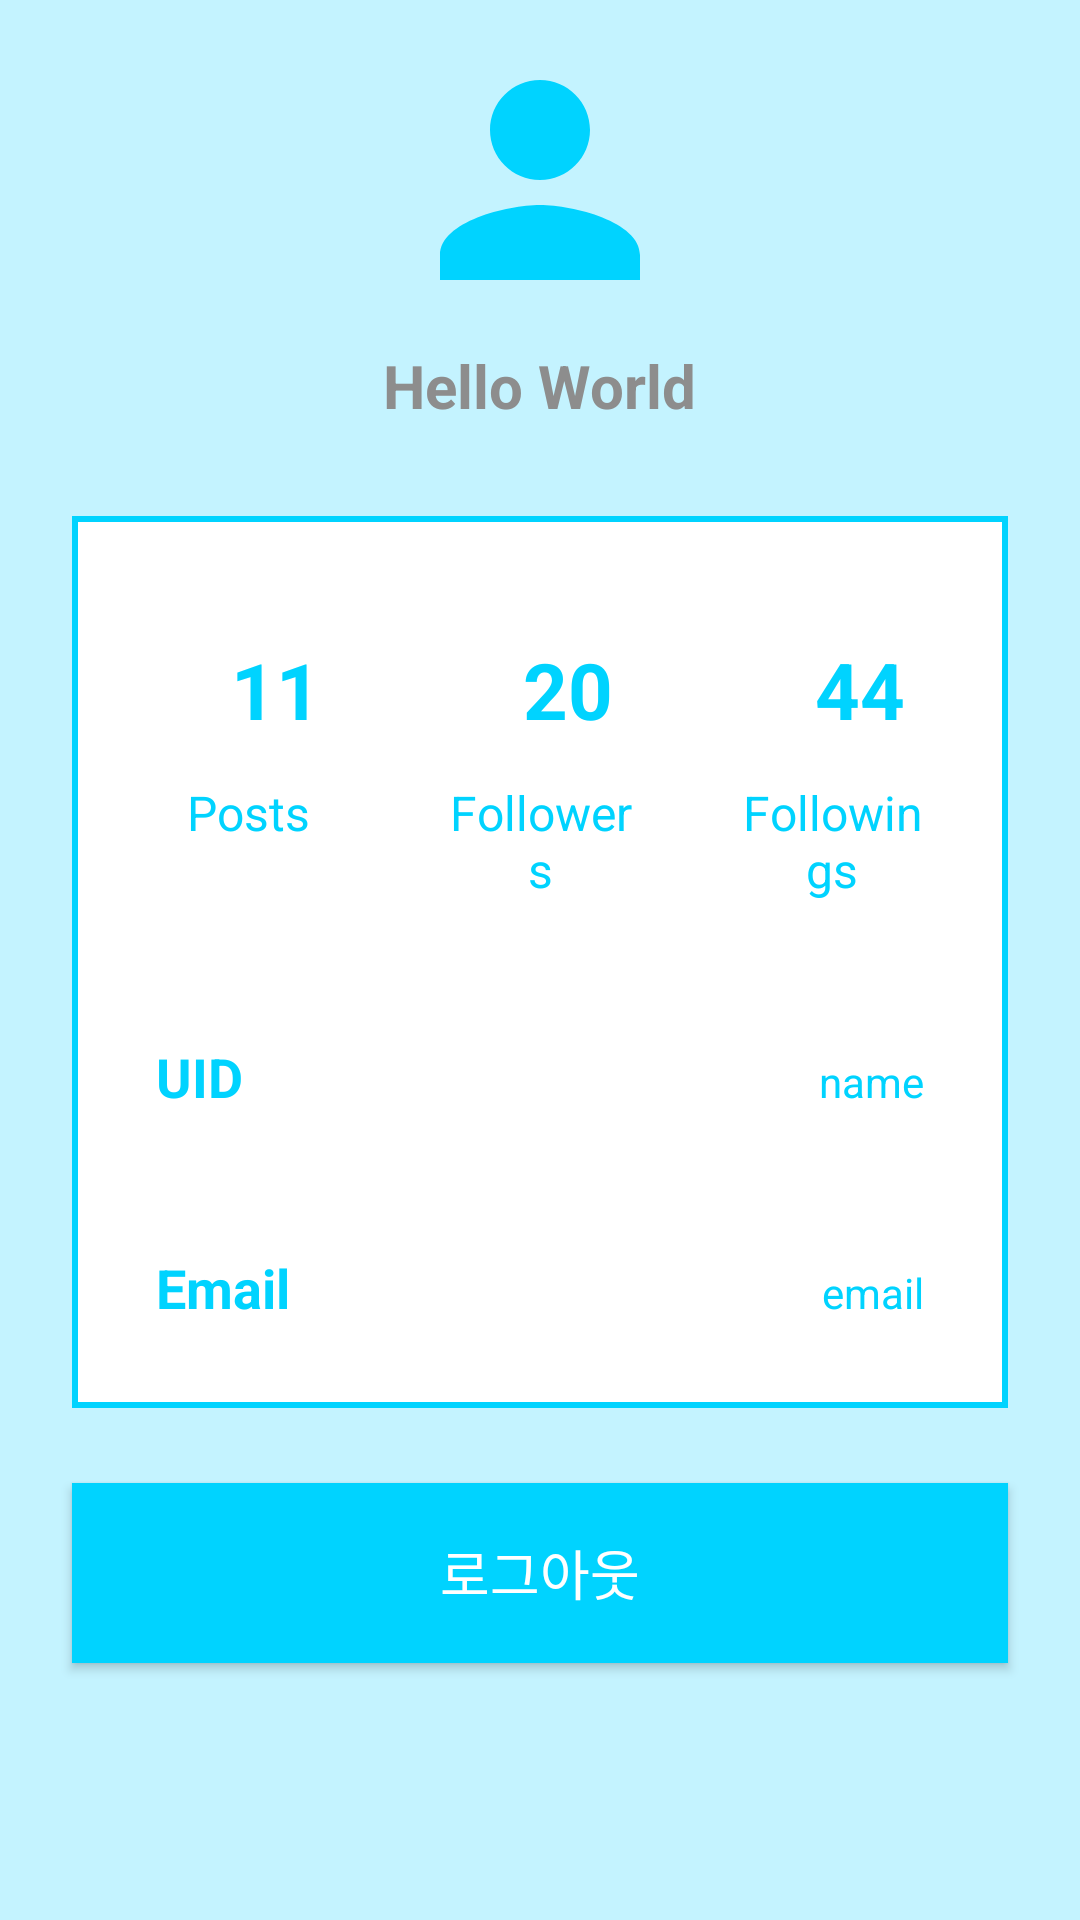

Where icons sit on this 1080x1920 app screen, as (x1=x1, y1=y1, x2=x2, y2=y2):
person: (x1=440, y1=80, x2=640, y2=280)
